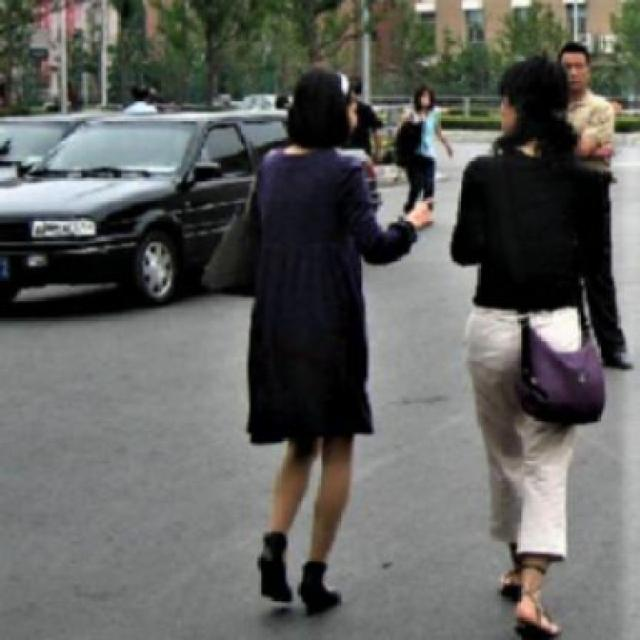obstacle: (238, 62, 436, 613), (454, 52, 598, 638), (555, 34, 634, 380), (401, 78, 448, 215)
